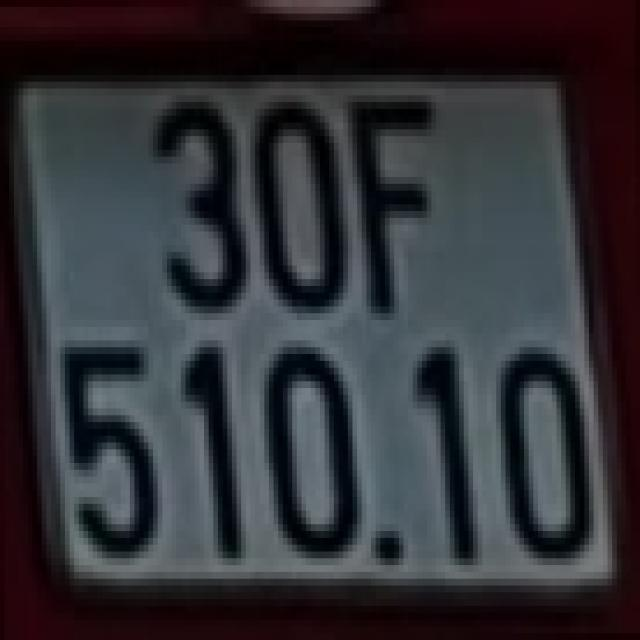0: (264, 341, 362, 558), (255, 95, 348, 314), (501, 341, 594, 558)
1: (412, 340, 482, 566), (181, 340, 246, 566)
3: (148, 95, 250, 314)
5: (61, 334, 162, 558)
F: (348, 89, 436, 314)
